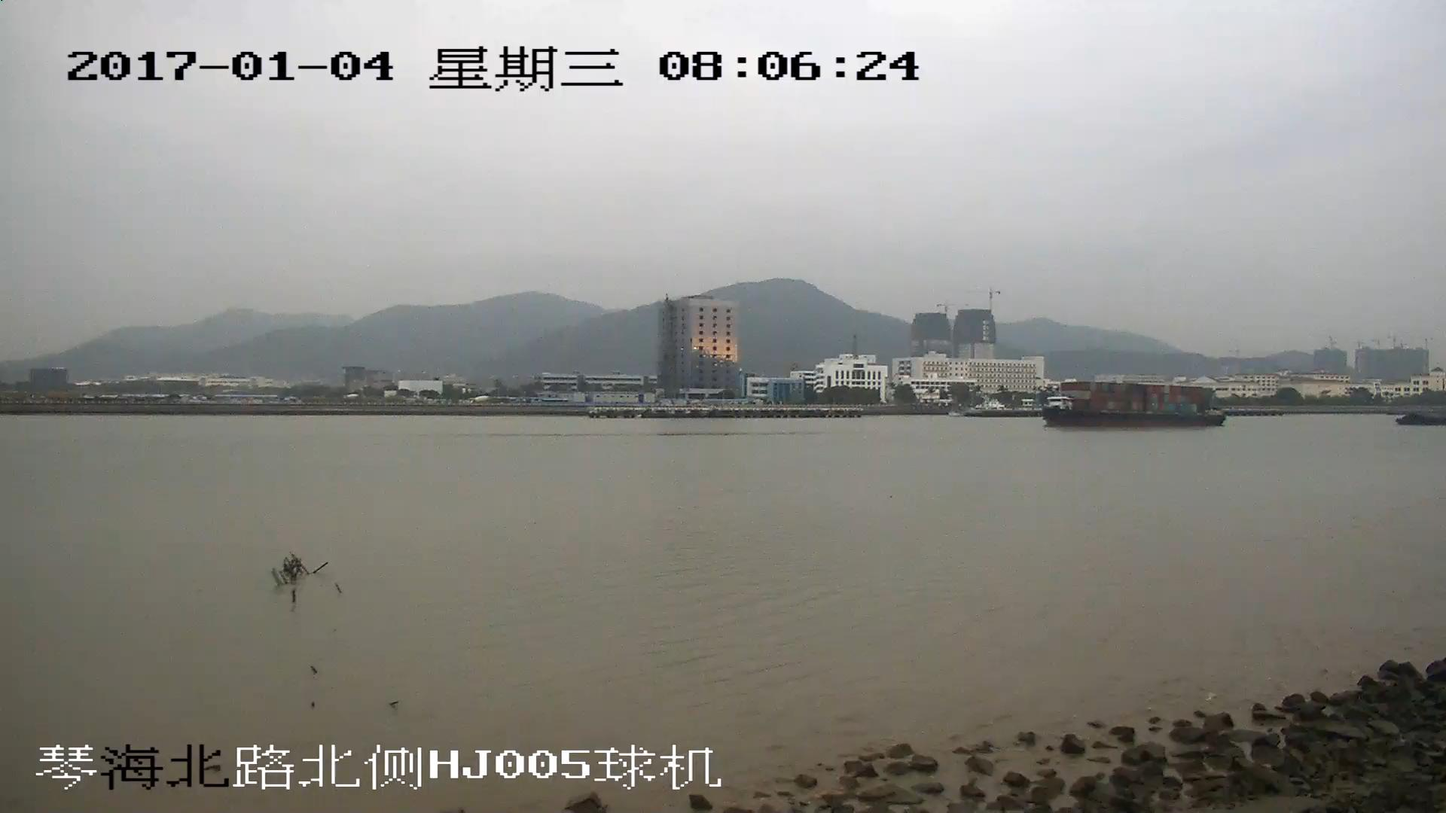container ship: (1044, 381, 1222, 428)
